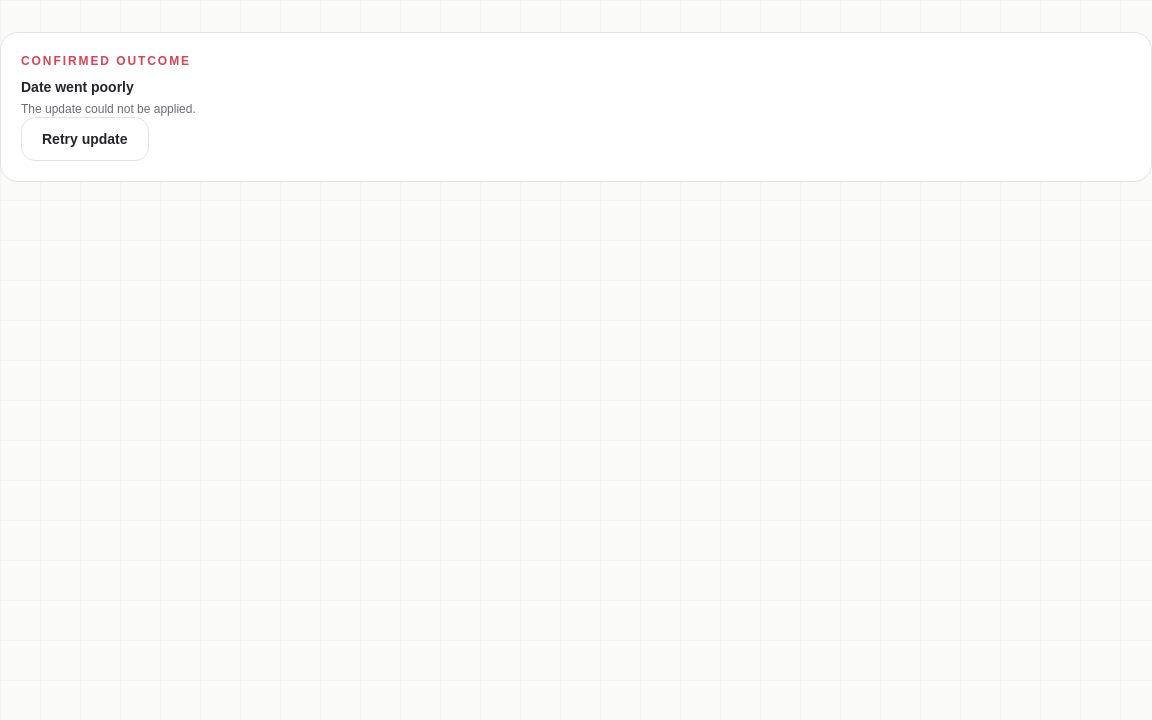
Test: date feedback controls › can retry a failed learning update
The width and height of the screenshot is (1152, 720).
What coordinates should you click on to do the following:
click the button "Retry update"
I would click on:
 (85, 139)
Its box is [21, 117, 149, 161].
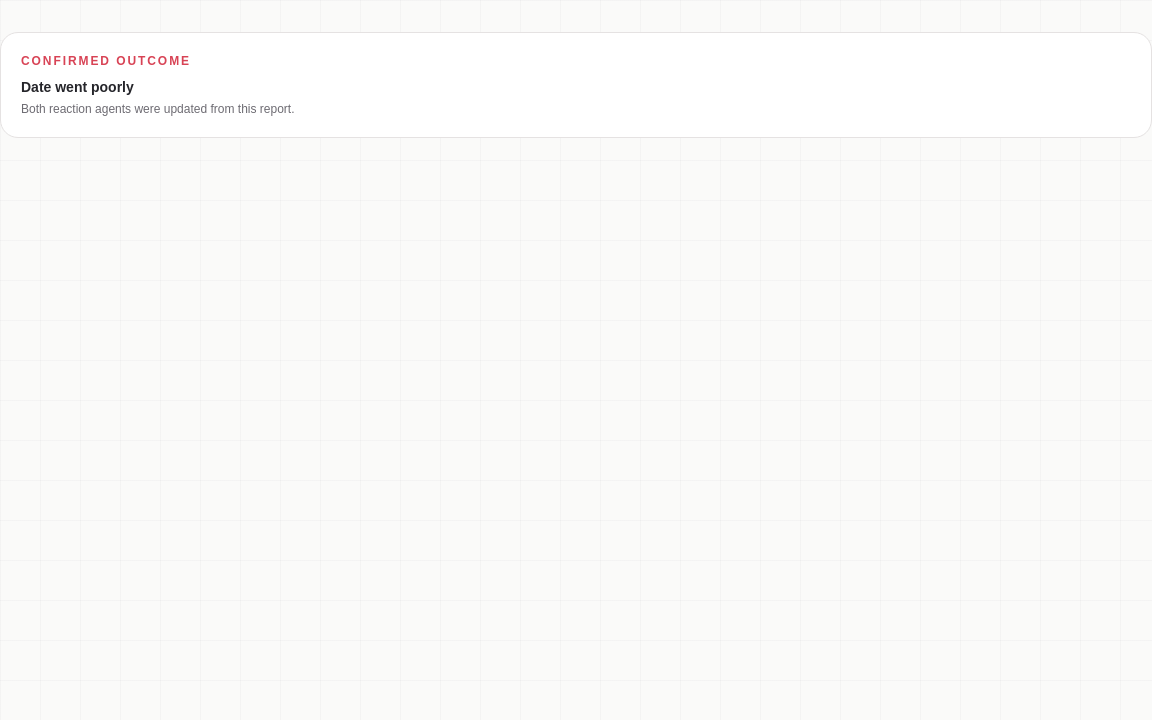
expect the text "Both reaction agents were updated from this report." is shown: met, box [21, 102, 294, 116]
